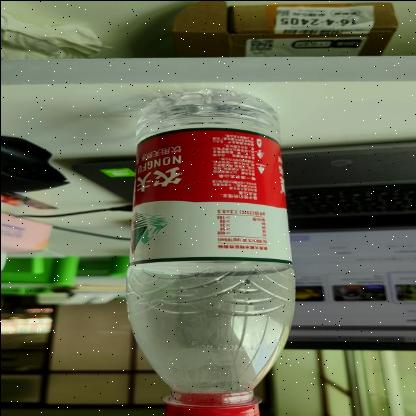Plastic Bottle: (124, 88, 296, 416)
